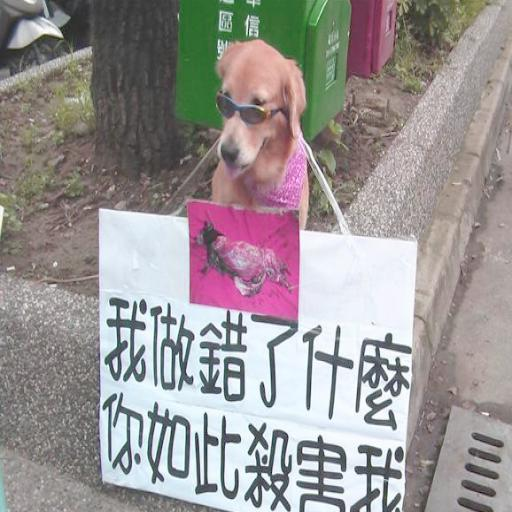dog_face: (211, 42, 307, 187)
